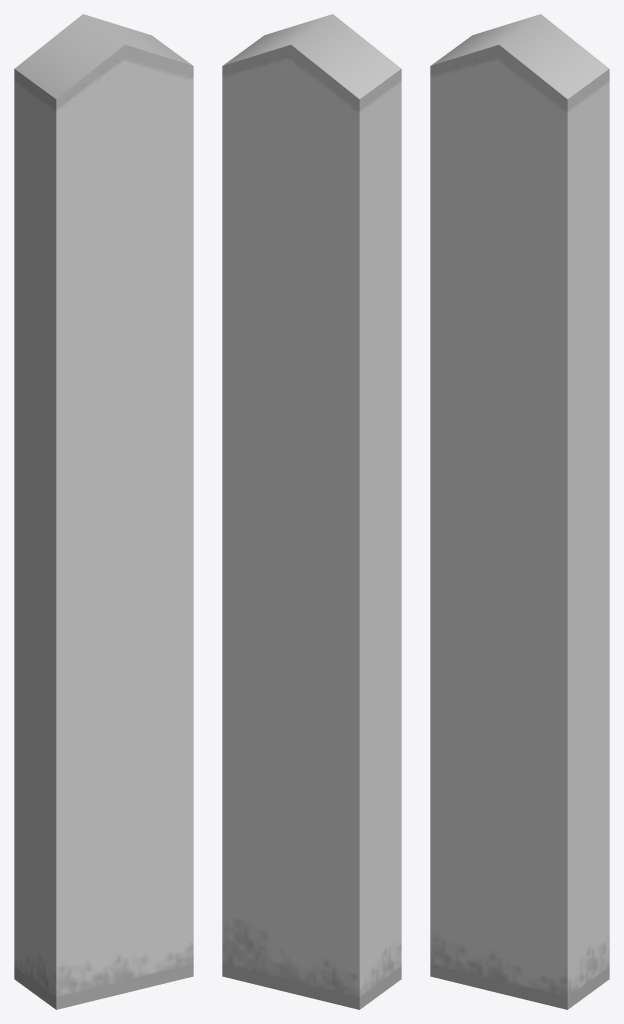
File: city_white_picket_fence_04.glb
3 renders of one model, left to right at view 1: azimuth 30°, elevation 25°; view 2: azimuth 150°, elevation 25°; view 3: azimuth 330°, elevation 25°, orthographic.
Parts seen in each view (by area): view 1: polySurface710; view 2: polySurface710; view 3: polySurface710.
Part boxes in pixels (x1,y1,x2,y2): polySurface710: (14, 14, 193, 1009); polySurface710: (222, 14, 401, 1009); polySurface710: (430, 14, 609, 1009).
Size of the model in its own units: 0.1432 by 0.9462 by 0.0757.
1 material, 1 textured.
